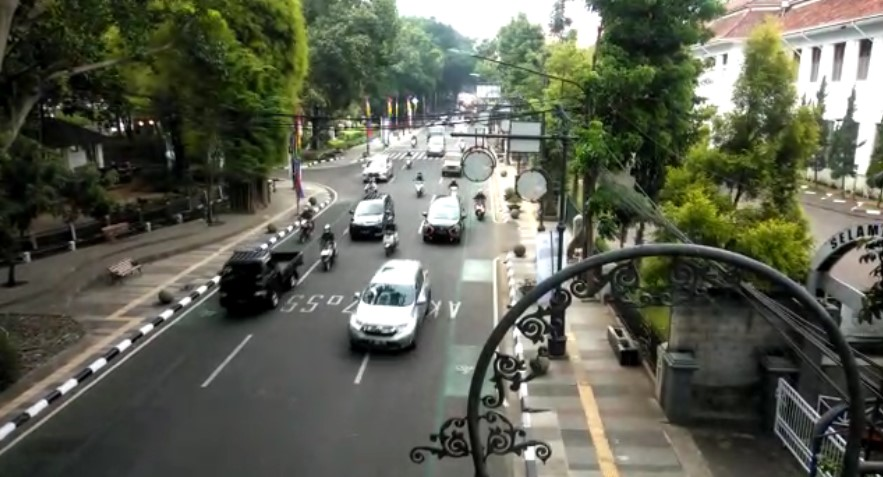mobil: (348, 257, 436, 354), (211, 244, 303, 313), (421, 195, 467, 241), (349, 192, 395, 237)
motor: (316, 226, 341, 271), (471, 189, 493, 227), (293, 208, 317, 241), (380, 217, 401, 253)
